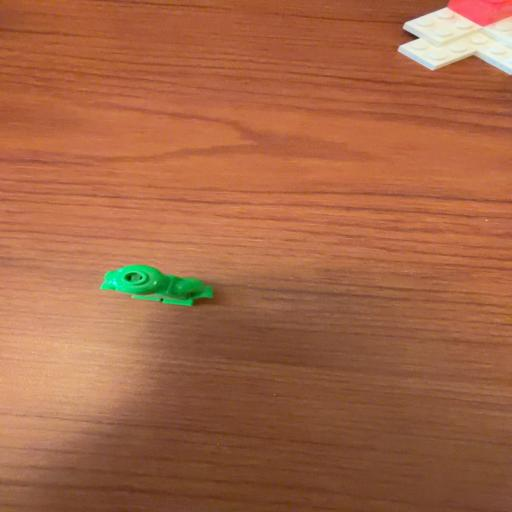UnoQ-minifig-detector: (100, 265, 213, 306)
